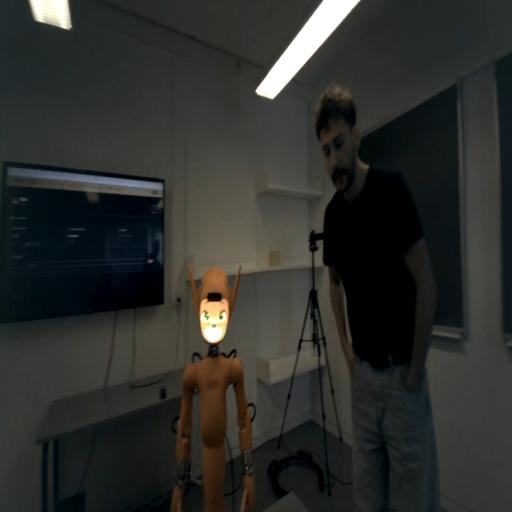Robot: (188, 263, 241, 347)
TV: (5, 172, 162, 316)
